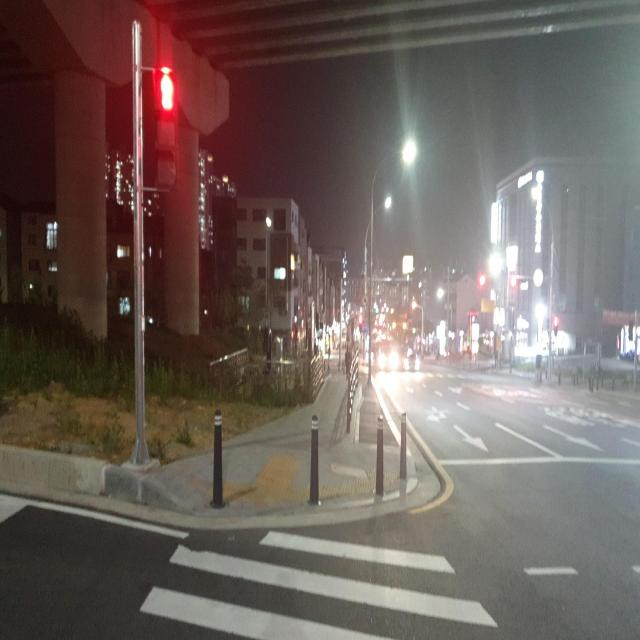빨간불: (148, 63, 180, 191)
횡단보도: (138, 527, 500, 639)
